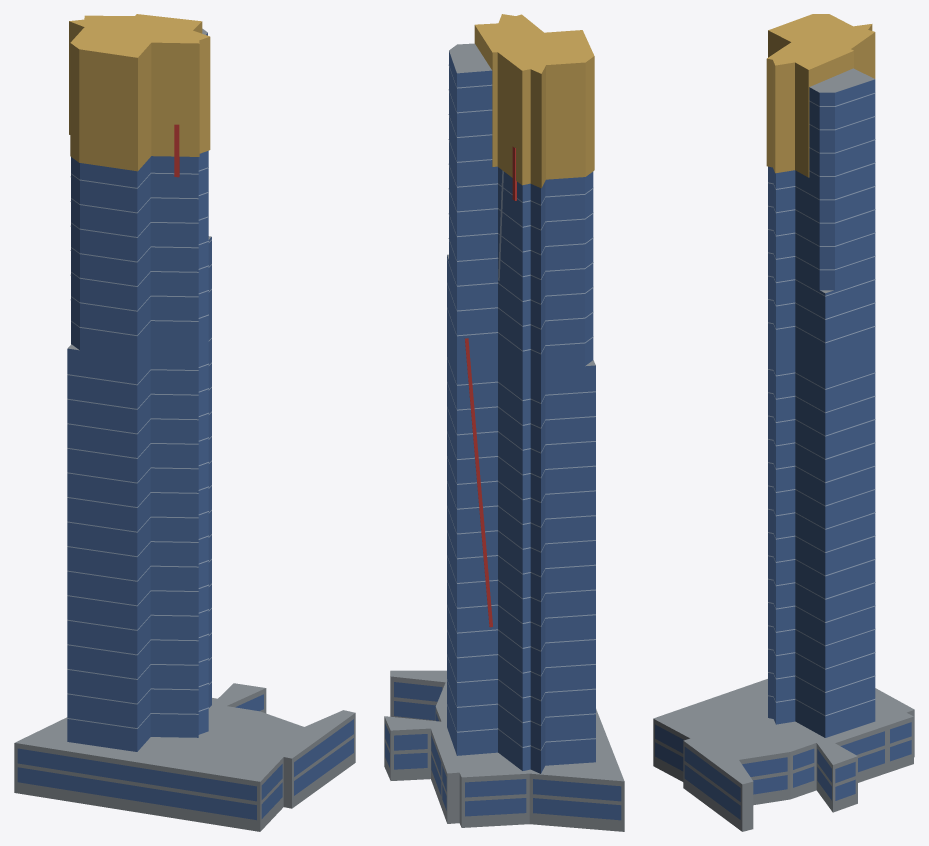
Rendered from melbourne-eureka-tower.glb.
3 views of the same model, side by side, from view 1: azimuth 30°, elevation 25°; view 2: azimuth 150°, elevation 25°; view 3: azimuth 270°, elevation 25° (orthographic). The views are drawn at different scales.
Parts seen in each view (by area): view 1: Eureka Tower; view 2: Eureka Tower; view 3: Eureka Tower.
Boxes of the visible parts, x1=… form: Eureka Tower: x1=14, y1=14, x2=355, y2=831; Eureka Tower: x1=384, y1=14, x2=624, y2=831; Eureka Tower: x1=653, y1=14, x2=914, y2=831.
Size of the model in its own units: 120 by 297 by 99.7.
